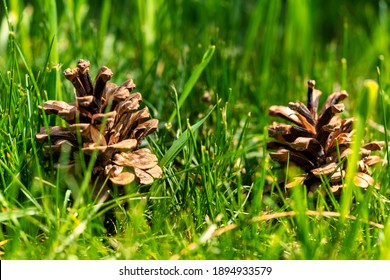Pc: (31, 58, 165, 207), (261, 80, 383, 197)
